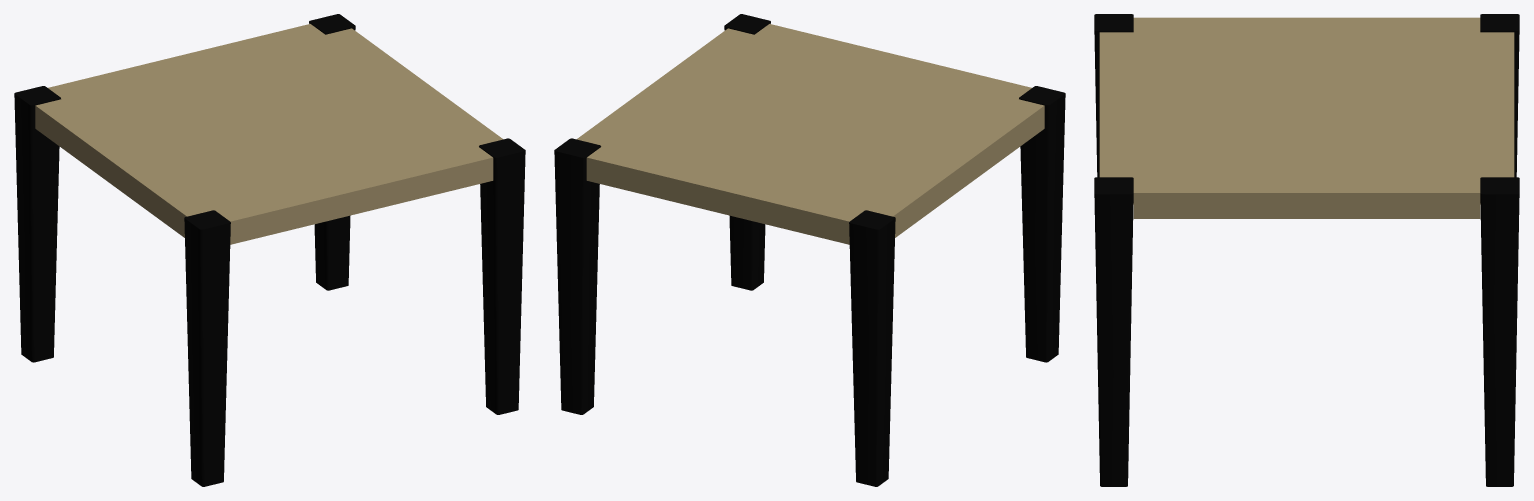
Rendered from Table_003.FBX.
The picture shows the model from 3 angles, left to right: view 1: azimuth 30°, elevation 25°; view 2: azimuth 150°, elevation 25°; view 3: azimuth 270°, elevation 25°; orthographic projection. The views are drawn at different scales.
Parts seen in each view (by area): view 1: Table_003; view 2: Table_003; view 3: Table_003.
Boxes of the visible parts, <box> form: Table_003: <box>14,14,525,486</box>; Table_003: <box>554,14,1065,486</box>; Table_003: <box>1094,14,1519,486</box>.
Bounding box in the file's own units: 103 × 78.52 × 103.
